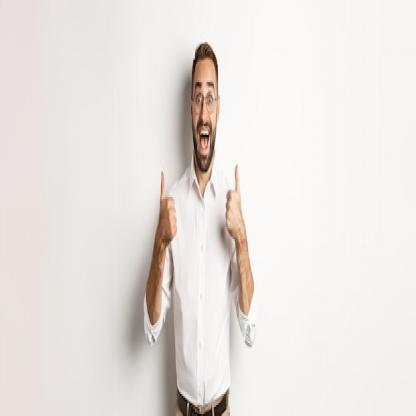thumb_up: (223, 154, 244, 240), (156, 170, 178, 245)
